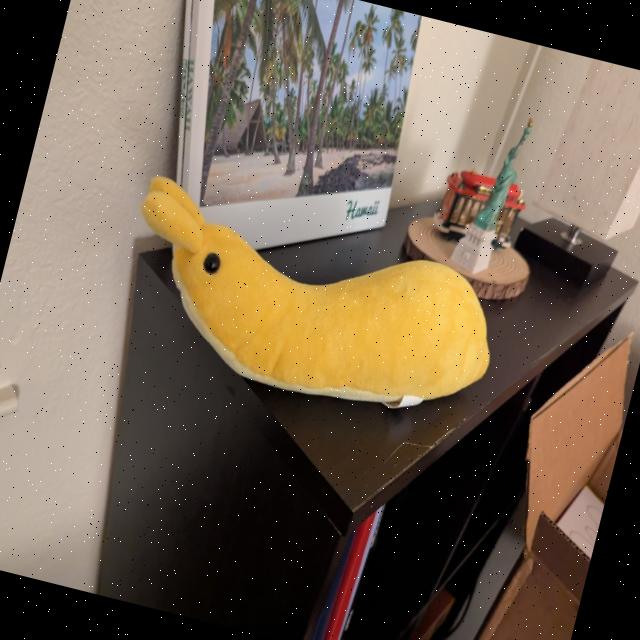banana-slug-toy: (92, 159, 534, 449)
